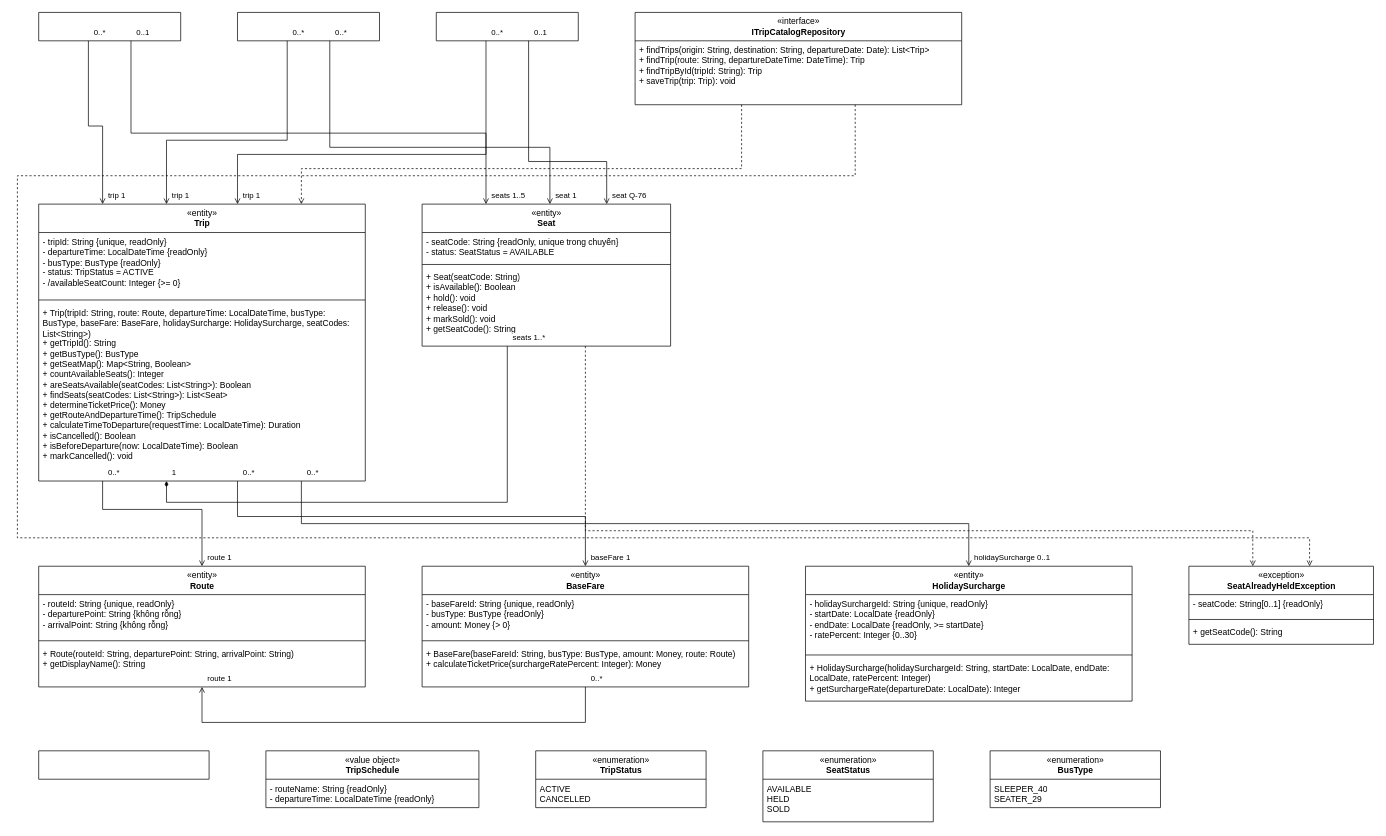
This 1386x836 diagram has some shape labels left out. The centre of each missing label's shape, as x and y in pixels:
"«entity» Booking" belongs at point 109,26.
"«entity» PhoneReservation" belongs at point 507,26.
"«entity» Ticket" belongs at point 308,26.
"«exception» InvalidStateException" belongs at point 123,764.
